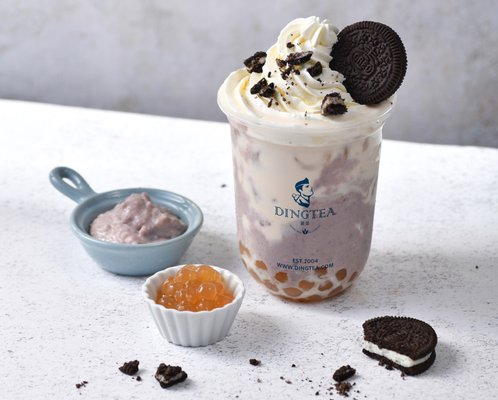salad: (49, 166, 97, 206)
sushi: (68, 186, 203, 277), (144, 263, 245, 348)
